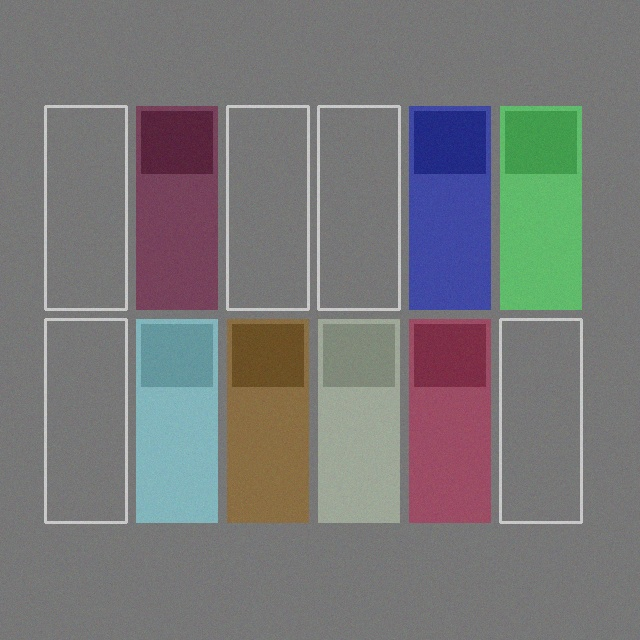space-empty: (45, 106, 126, 309), (227, 106, 308, 309), (318, 106, 399, 309), (45, 319, 126, 522), (500, 319, 581, 522)
space-occupied: (136, 106, 217, 309), (409, 106, 490, 309), (500, 106, 581, 309), (136, 319, 217, 522), (227, 319, 308, 522), (318, 319, 399, 522), (409, 319, 490, 522)
